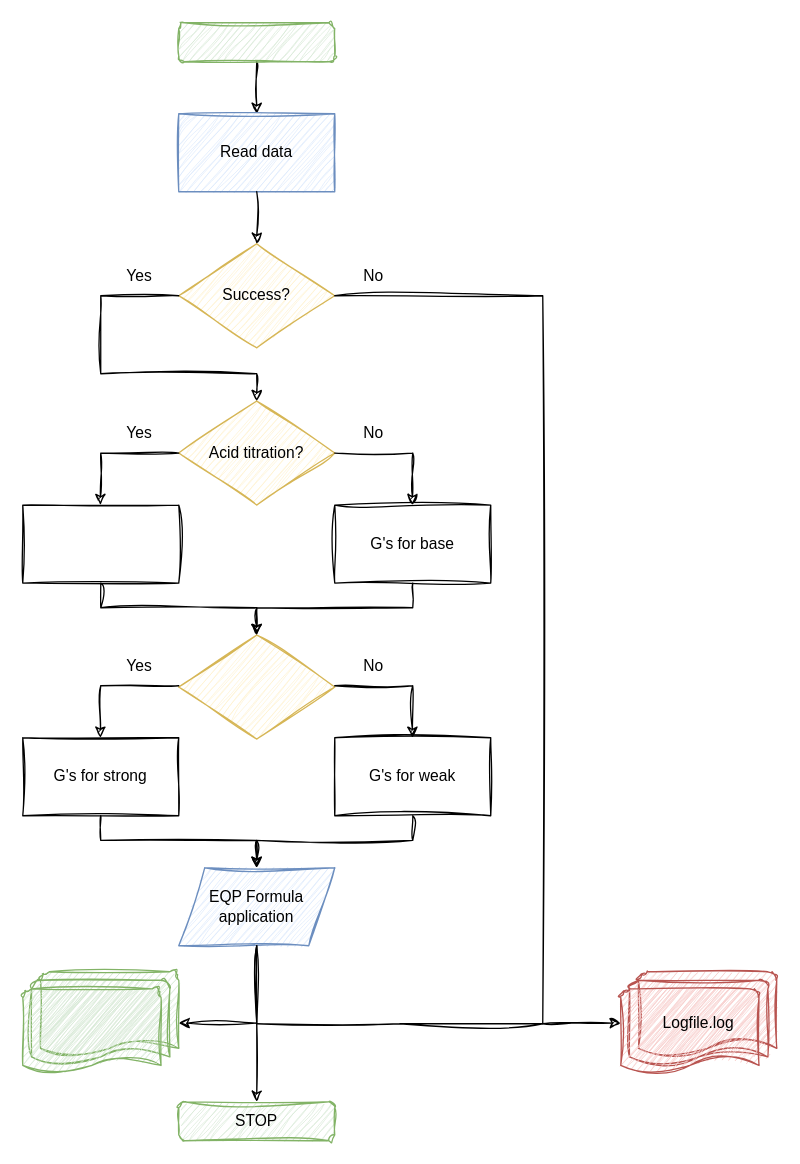
Some shapes in this 800 by 1164 pixel diagram are drawn without their labels. The shapes that lost their labels are listed below. From the top down, each one's box as (x1, y1, x2, y2) in pixels, then its label:
(177, 21, 335, 62): START
(21, 504, 179, 583): G's for acid
(177, 634, 335, 739): Strong?
(21, 970, 179, 1074): Results.dat Figure.png Logfile.log
